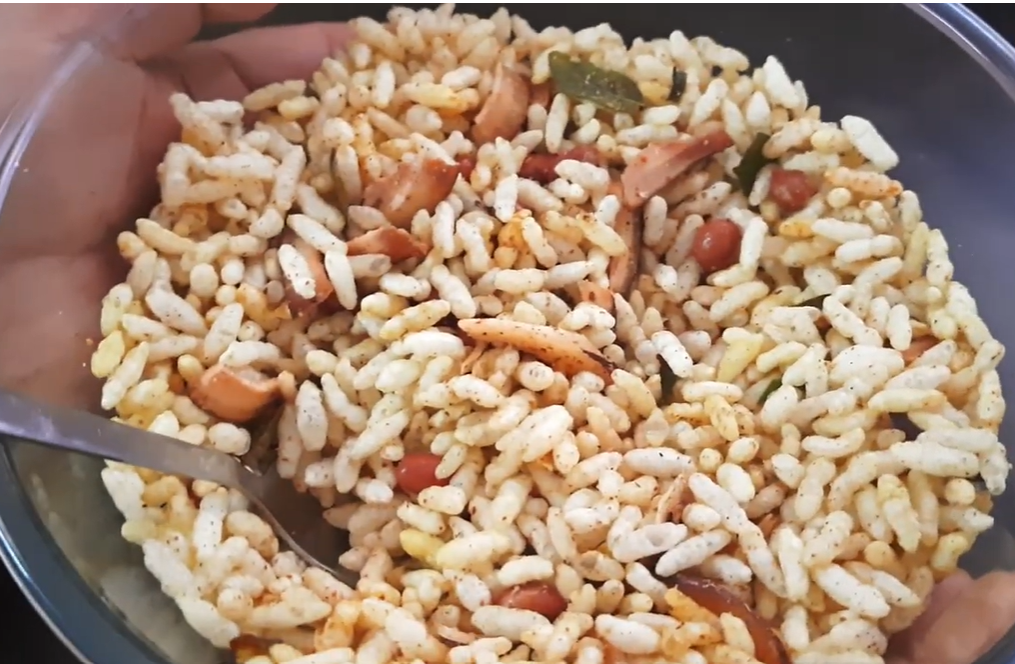chatpate: (129, 54, 981, 651)
